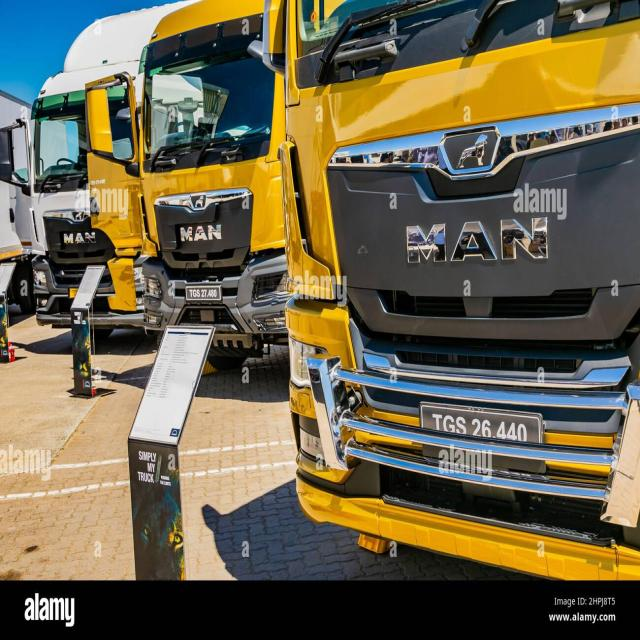Heavy Duty Truck: (274, 0, 640, 571), (145, 1, 287, 363), (16, 7, 160, 341)
